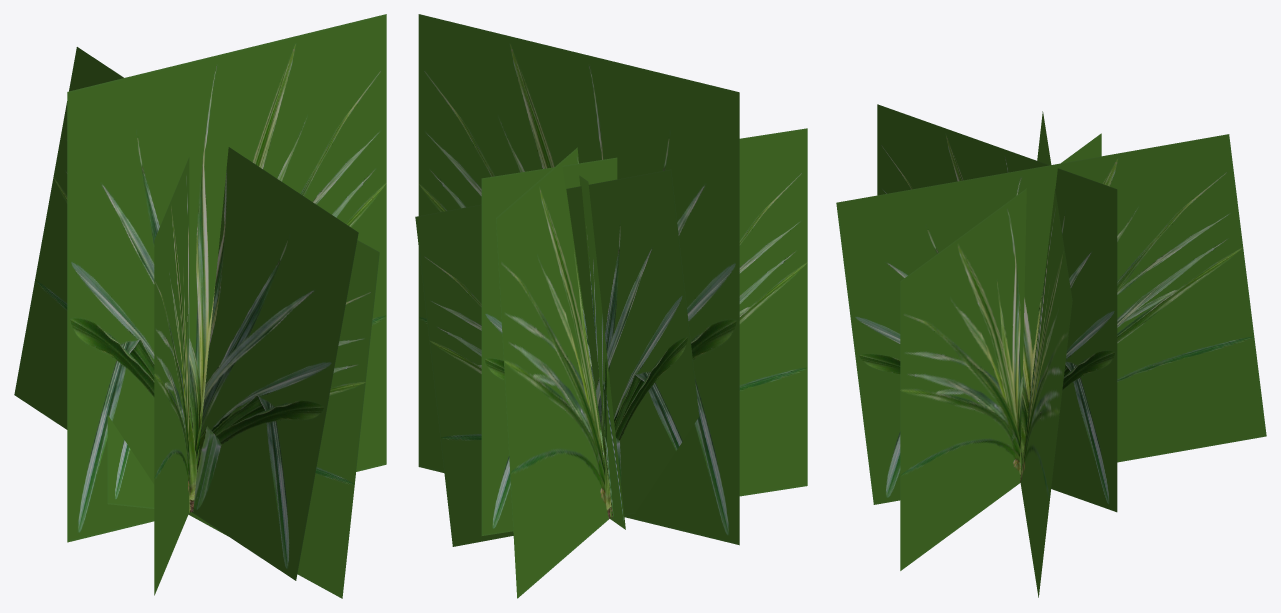
The model's file is gs_bush16.glb.
3 renders of one model, left to right at view 1: azimuth 30°, elevation 25°; view 2: azimuth 150°, elevation 25°; view 3: azimuth 270°, elevation 25°, orthographic. The views are drawn at different scales.
Visible parts, largest first — view 1: Plane01; view 2: Plane01; view 3: Plane01.
Part boxes in pixels (x1,y1,x2,y2): Plane01: (14, 14, 386, 598); Plane01: (415, 14, 807, 598); Plane01: (836, 104, 1266, 597).
Size of the model in its own units: 96.38 by 147 by 124.
1 material, 1 textured.
